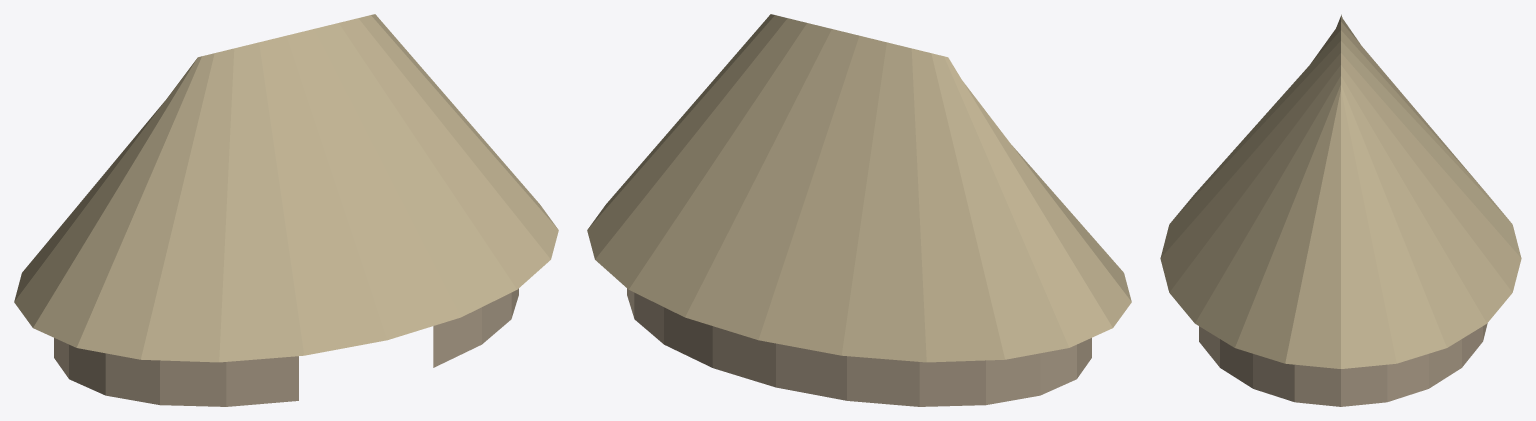
File: hut.glb
3 renders of one model, left to right at view 1: azimuth 30°, elevation 25°; view 2: azimuth 150°, elevation 25°; view 3: azimuth 270°, elevation 25°, orthographic. The views are drawn at different scales.
Visible parts, largest first — view 1: hut_roof, hut_wall; view 2: hut_roof, hut_wall; view 3: hut_roof, hut_wall.
Boxes of the visible parts, x1,y1,x2,y2 form: hut_roof: (14,14,558,362); hut_wall: (54,288,518,406); hut_roof: (587,14,1131,362); hut_wall: (627,288,1091,406); hut_roof: (1160,14,1521,368); hut_wall: (1199,323,1487,406).
Size of the model in its own units: 8.4 by 4.6 by 5.8.
